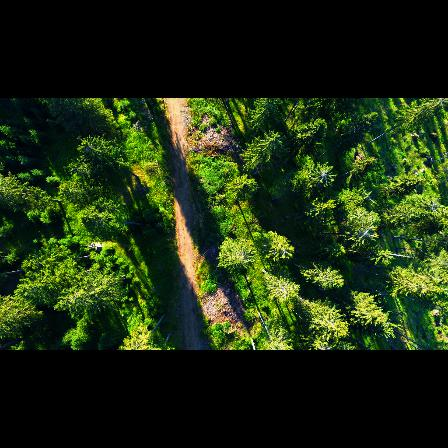Sick: (353, 223, 380, 244), (312, 164, 336, 186)
